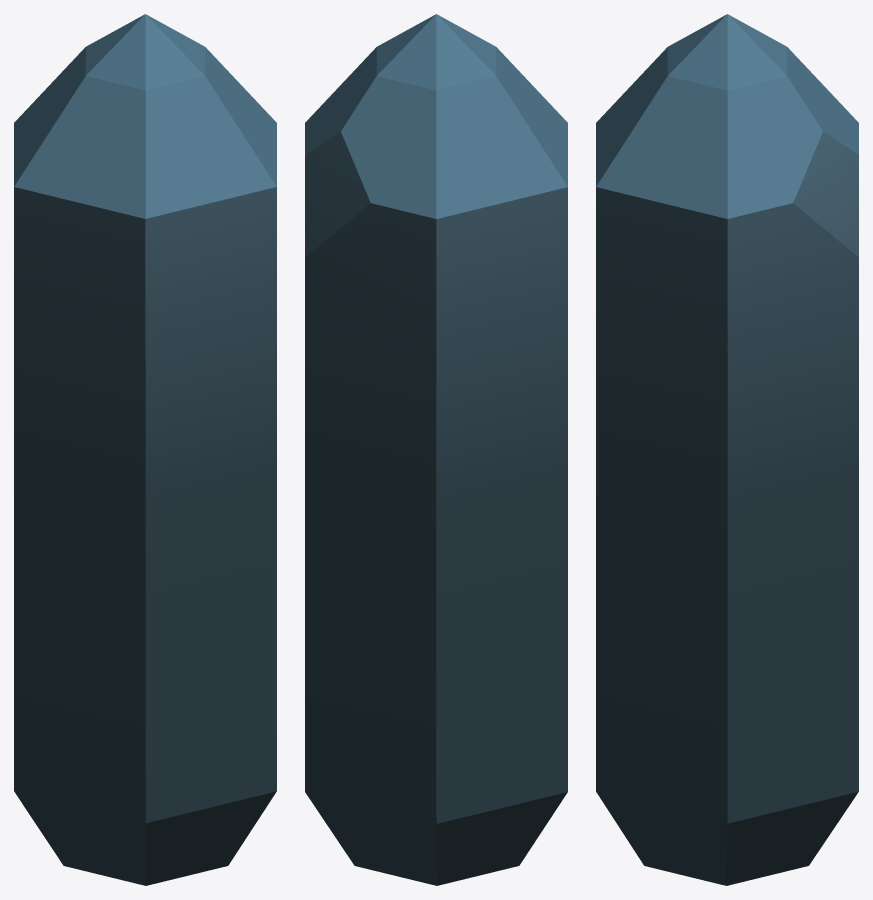
Rendered from geology-crystals-calcitecrystal_v5.fbx.
3 renders of one model, left to right at view 1: azimuth 30°, elevation 25°; view 2: azimuth 150°, elevation 25°; view 3: azimuth 270°, elevation 25°, orthographic.
Parts seen in each view (by area): view 1: CalciteCrystal_v5; view 2: CalciteCrystal_v5; view 3: CalciteCrystal_v5.
Part boxes in pixels (x1,y1,x2,y2): CalciteCrystal_v5: (14,14,276,885); CalciteCrystal_v5: (305,14,567,885); CalciteCrystal_v5: (596,14,858,885).
Bounding box in the file's own units: 2.21 × 6.92 × 1.92.
